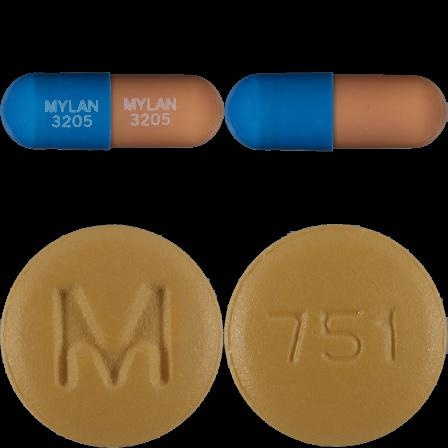51079-632: (0, 0, 224, 224)
